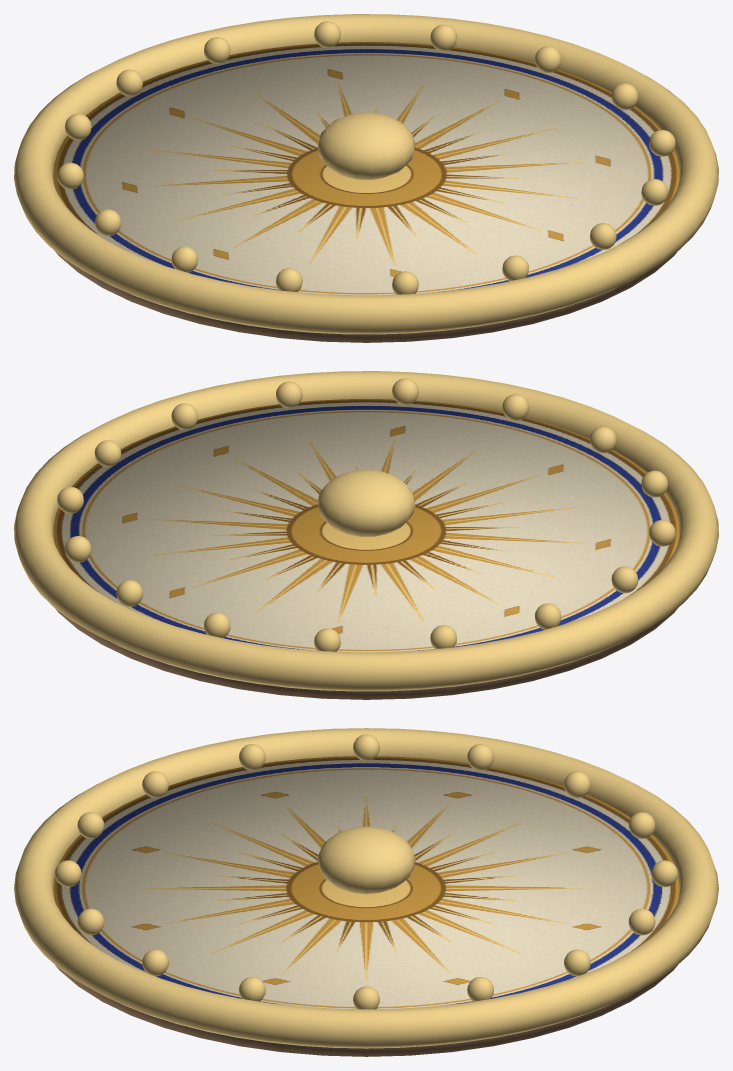
The model's file is cleric_shield.glb.
The picture shows the model from 3 angles, top to bottom: view 1: azimuth 30°, elevation 25°; view 2: azimuth 150°, elevation 25°; view 3: azimuth 270°, elevation 25°; orthographic projection.
Visible parts, largest first — view 1: SHIELD_Sun; view 2: SHIELD_Sun; view 3: SHIELD_Sun.
Part boxes in pixels (bbox=[...]): SHIELD_Sun: bbox=[14, 14, 718, 342]; SHIELD_Sun: bbox=[14, 371, 718, 699]; SHIELD_Sun: bbox=[14, 728, 718, 1056].
Size of the model in its own units: 0.572 by 0.09 by 0.572.
4 materials, 1 textured.
